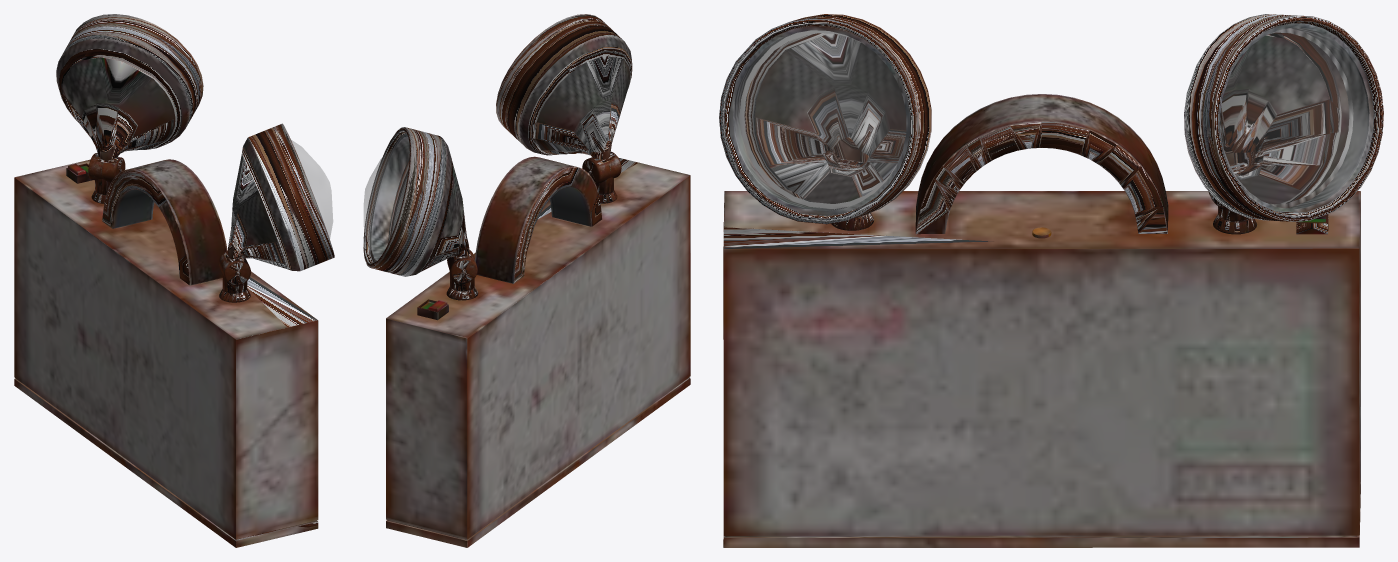
The model's file is rusty_twin_spot_emergency_light.glb.
3 renders of one model, left to right at view 1: azimuth 30°, elevation 25°; view 2: azimuth 150°, elevation 25°; view 3: azimuth 270°, elevation 25°, orthographic. The views are drawn at different scales.
Visible parts, largest first — view 1: Cube.001, light frame.001, light frame, Cube.003, light glass, Cylinder.002, Cylinder.004; view 2: Cube.001, light frame, light frame.001, Cube.003, light glass.001, Cylinder.004, Cylinder.002; view 3: Cube.001, light frame, light frame.001, light glass, light glass.001, Cube.003, Cylinder.004.
Boxes of the visible parts, x1=… form: Cube.001: x1=14, y1=159, x2=318, y2=547; light frame.001: x1=56, y1=14, x2=203, y2=160; light frame: x1=228, y1=123, x2=334, y2=271; Cube.003: x1=102, y1=159, x2=227, y2=285; light glass: x1=291, y1=140, x2=332, y2=238; Cylinder.002: x1=219, y1=251, x2=250, y2=302; Cylinder.004: x1=88, y1=153, x2=125, y2=203; Cube.001: x1=386, y1=157, x2=690, y2=547; light frame: x1=496, y1=14, x2=632, y2=159; light frame.001: x1=363, y1=127, x2=469, y2=276; Cube.003: x1=475, y1=156, x2=601, y2=283; light glass.001: x1=364, y1=138, x2=409, y2=259; Cylinder.004: x1=446, y1=249, x2=478, y2=300; Cylinder.002: x1=582, y1=151, x2=621, y2=203; Cube.001: x1=723, y1=191, x2=1360, y2=547; light frame: x1=719, y1=14, x2=931, y2=224; light frame.001: x1=1184, y1=14, x2=1383, y2=221; light glass: x1=734, y1=30, x2=905, y2=210; light glass.001: x1=1220, y1=28, x2=1367, y2=208; Cube.003: x1=915, y1=94, x2=1168, y2=234; Cylinder.004: x1=1208, y1=162, x2=1256, y2=234.
Bounding box in the file's own units: 1.42 × 3.56 × 4.03.
Materials: 2 (2 with a texture image).
